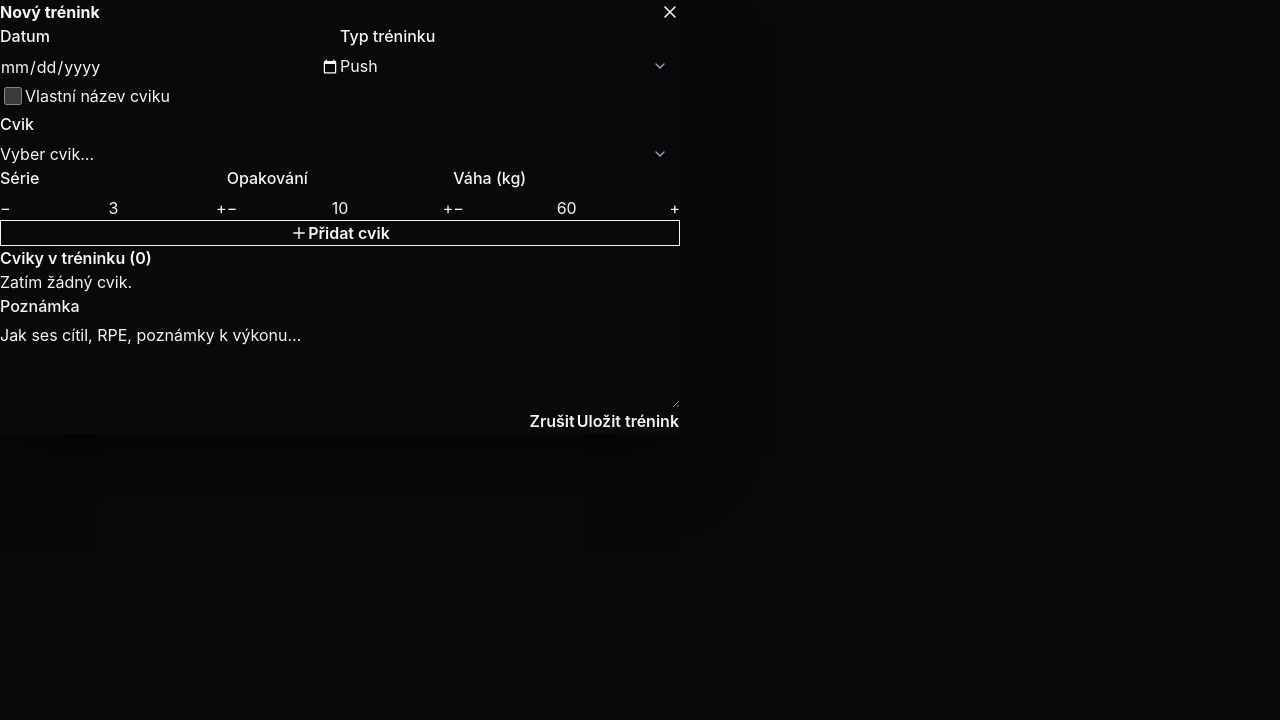
Test: WorkoutForm: last time › a custom name shows last time, and Použít fills it in
Click the checkbox labelled "Vlastní název cviku" at (13, 96), box [4, 87, 22, 105]
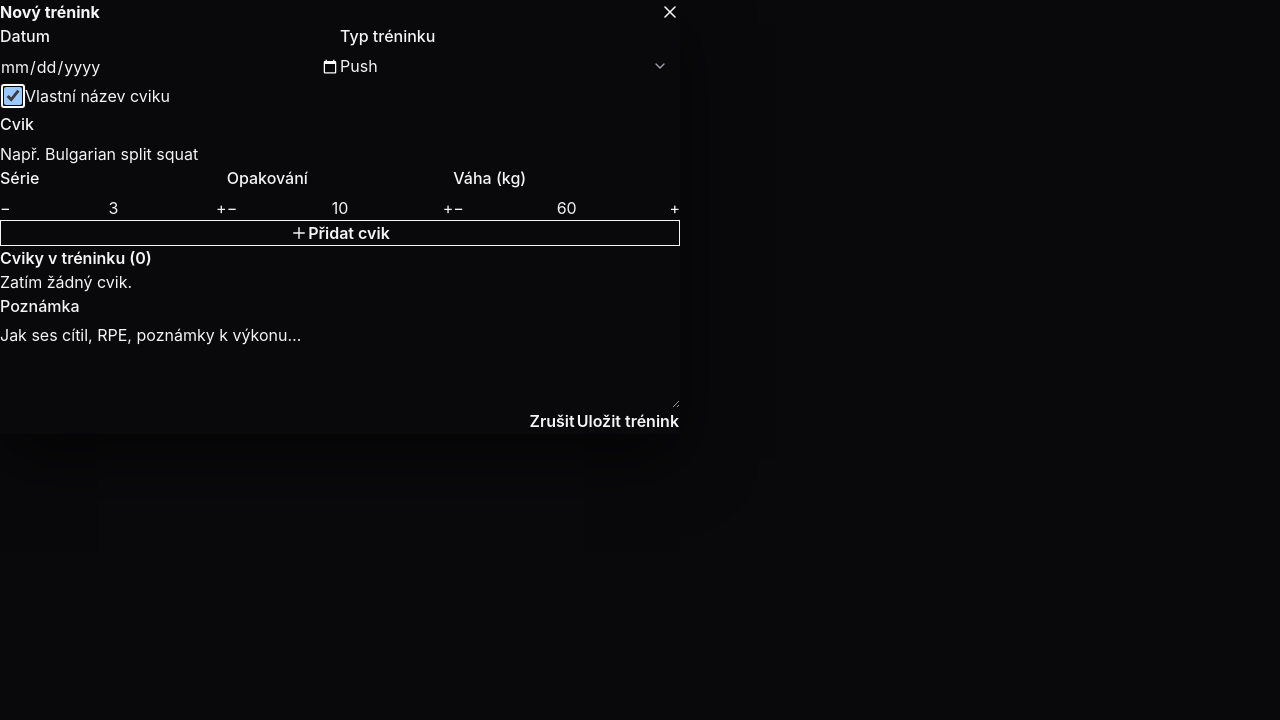
Type "cable fly" into the field labelled "Cvik" at (340, 154), box [0, 142, 680, 166]
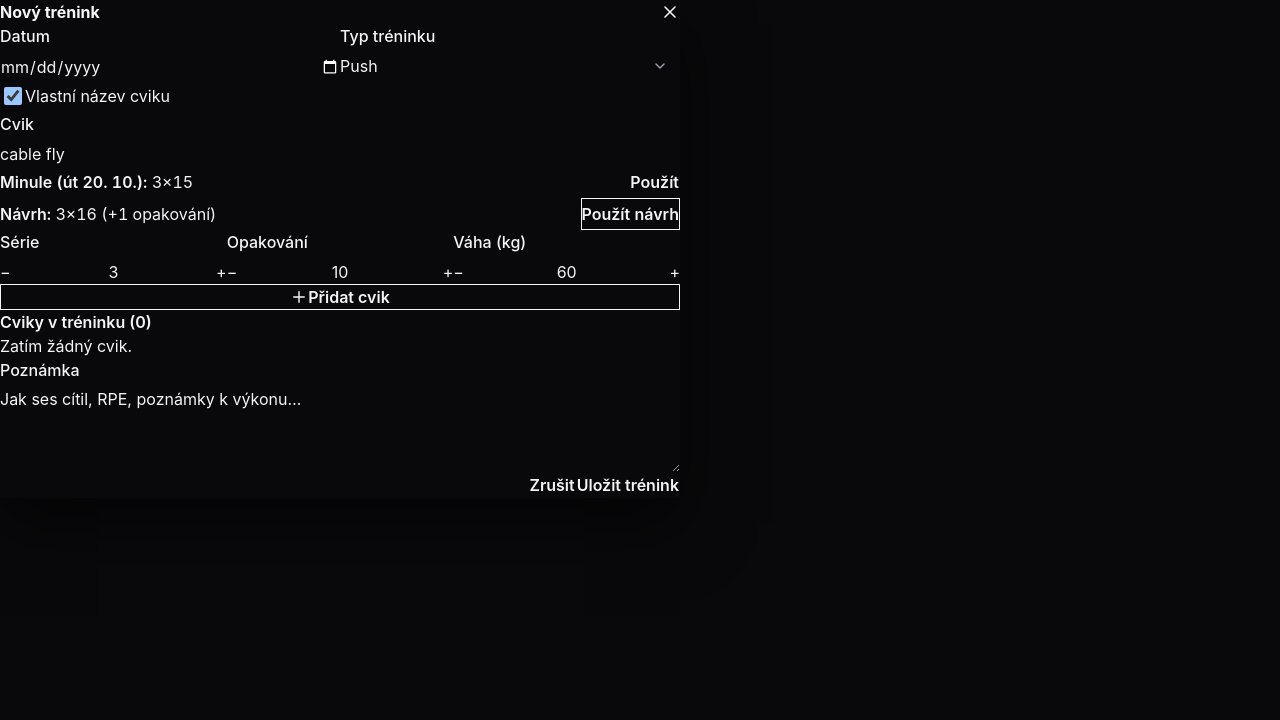
Expected: the number field labelled "Série" holds "3", [11, 260, 216, 284]
Click the button "Použít" at (655, 182), box [629, 166, 680, 198]
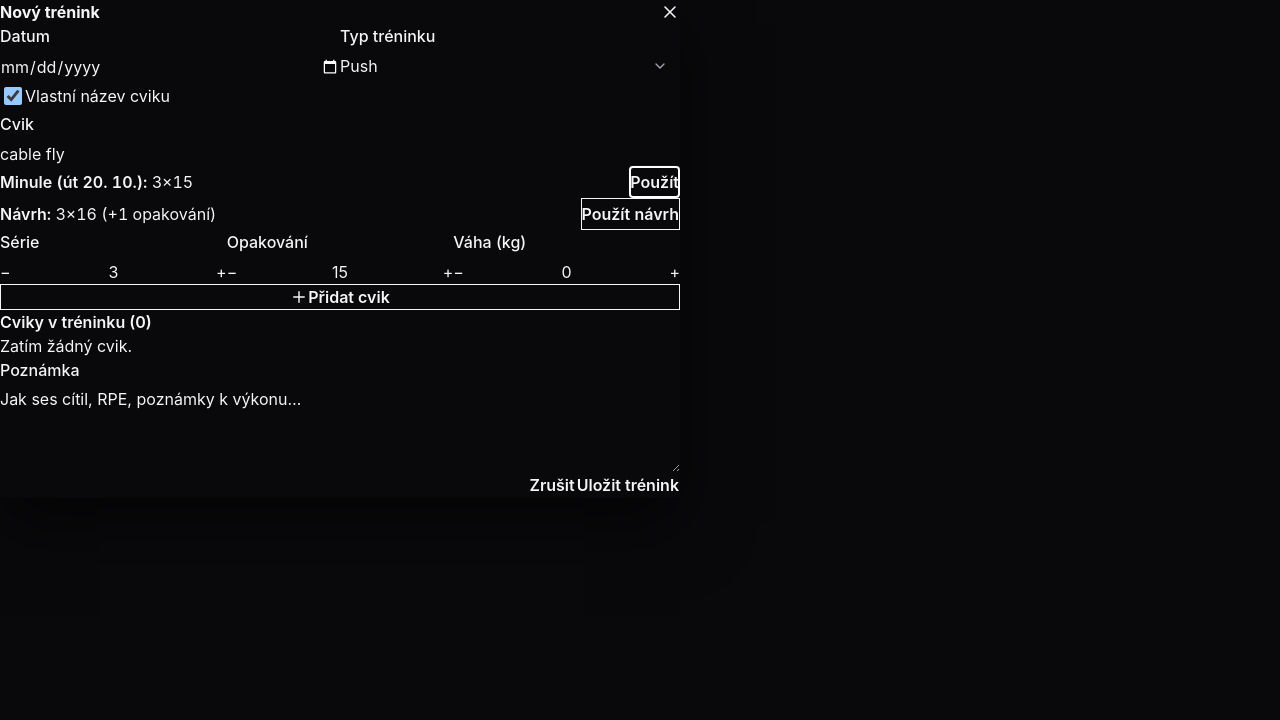
Result: the number field labelled "Opakování" holds "15" at [237, 260, 443, 284]
Result: the number field labelled "Váha (kg)" holds "0" at [464, 260, 669, 284]
